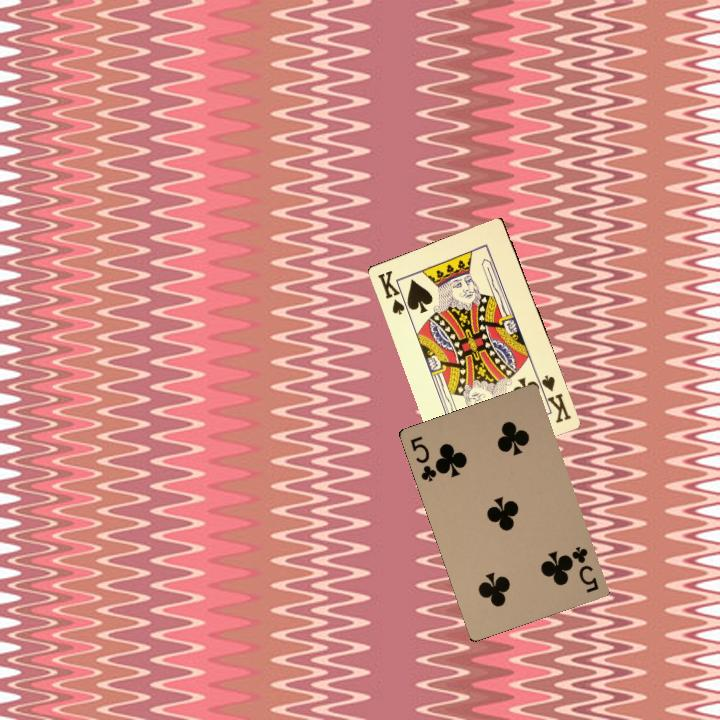5c: (565, 542, 601, 595), (406, 432, 442, 484)
Ks: (533, 372, 574, 426), (373, 266, 413, 318)
